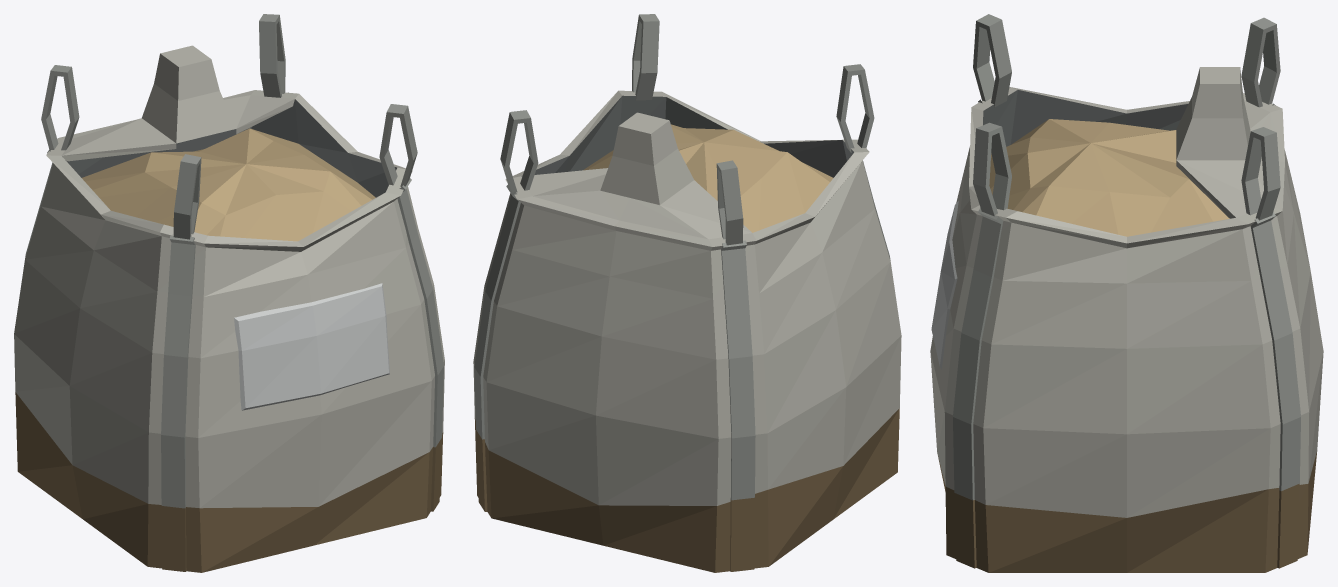
File: builder-s-dumpy-bag-89fd1b.glb
3 renders of one model, left to right at view 1: azimuth 30°, elevation 25°; view 2: azimuth 150°, elevation 25°; view 3: azimuth 270°, elevation 25°, orthographic. The views are drawn at different scales.
Parts seen in each view (by area): view 1: builder-s-dumpy-bag-89fd1b; view 2: builder-s-dumpy-bag-89fd1b; view 3: builder-s-dumpy-bag-89fd1b.
Boxes of the visible parts, x1=… form: builder-s-dumpy-bag-89fd1b: x1=14, y1=14, x2=444, y2=572; builder-s-dumpy-bag-89fd1b: x1=473, y1=14, x2=901, y2=572; builder-s-dumpy-bag-89fd1b: x1=930, y1=14, x2=1323, y2=572.
Size of the model in its own units: 0.98 by 1.16 by 0.98.
